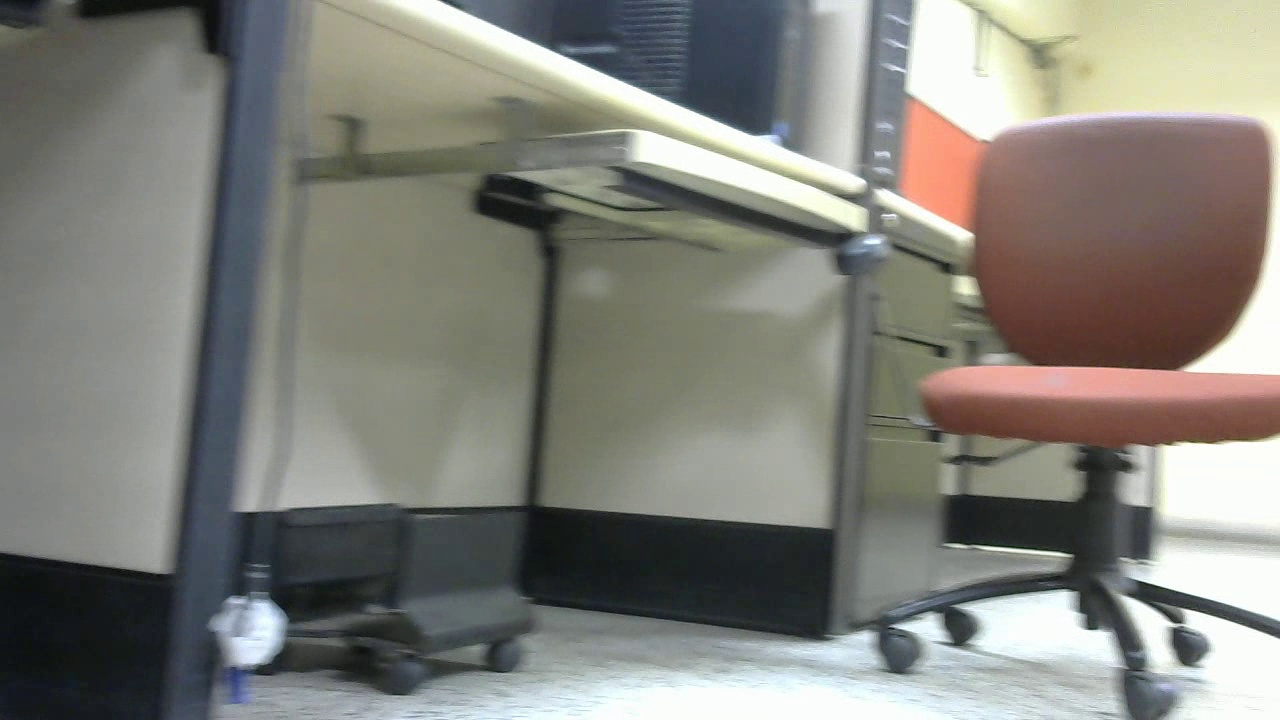chair: (834, 110, 1280, 720)
